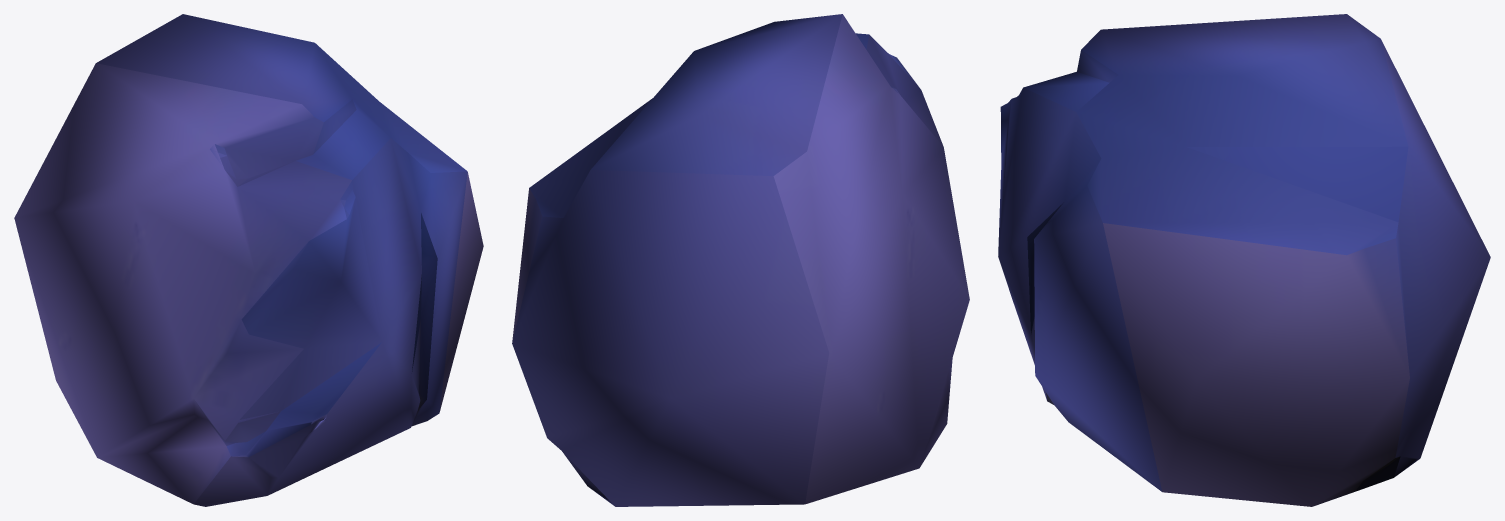
File: model.progressive.glb
3 views of the same model, side by side, from view 1: azimuth 30°, elevation 25°; view 2: azimuth 150°, elevation 25°; view 3: azimuth 270°, elevation 25° (orthographic).
Visible parts, largest first — view 1: material; view 2: material; view 3: material.
Part boxes in pixels (left/top/right/bottom): material: left=14, top=14, right=483, bottom=506; material: left=512, top=14, right=969, bottom=506; material: left=998, top=14, right=1490, bottom=506.
Bounding box in the file's own units: 1.63 × 1.64 × 1.85.
1 material, 1 textured.
